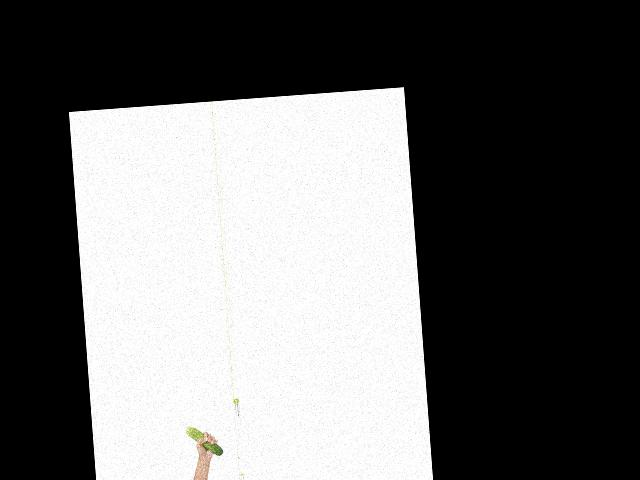cucumber: (186, 424, 223, 459)
